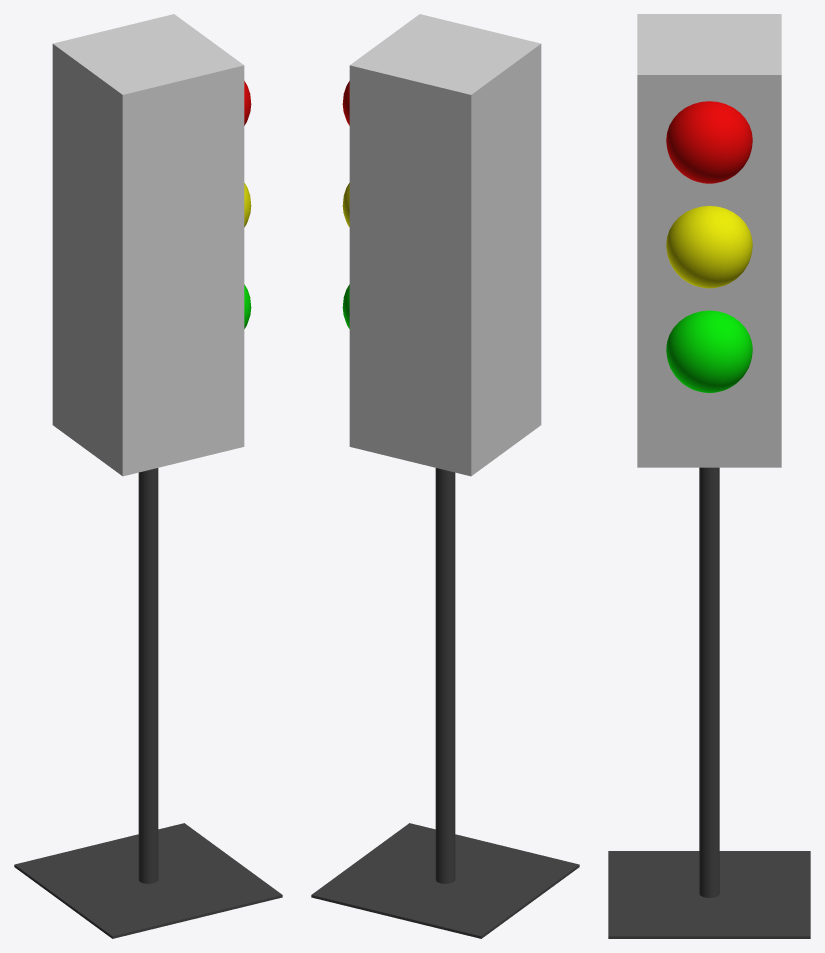
The model's file is Vehrkehrsampel.fbx.
3 views of the same model, side by side, from view 1: azimuth 30°, elevation 25°; view 2: azimuth 150°, elevation 25°; view 3: azimuth 270°, elevation 25° (orthographic). The views are drawn at different scales.
Visible parts, largest first — view 1: Ampel, Pfahl; view 2: Ampel, Pfahl; view 3: Ampel, Pfahl, red, yellow, green.
Part boxes in pixels (x1,y1,x2,y2): Ampel: (52, 14, 244, 476); Pfahl: (14, 468, 282, 938); Ampel: (349, 14, 541, 476); Pfahl: (311, 468, 579, 938); Ampel: (637, 14, 781, 467); Pfahl: (608, 467, 810, 938); red: (666, 101, 752, 183); yellow: (666, 310, 752, 392); green: (666, 206, 752, 288).
Bounding box in the file's own units: 80.87 × 351 × 75.48.
